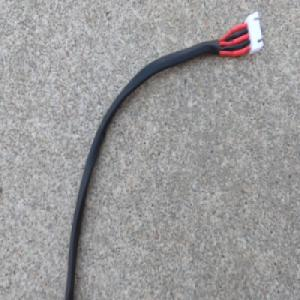Wire: (65, 8, 265, 300)
